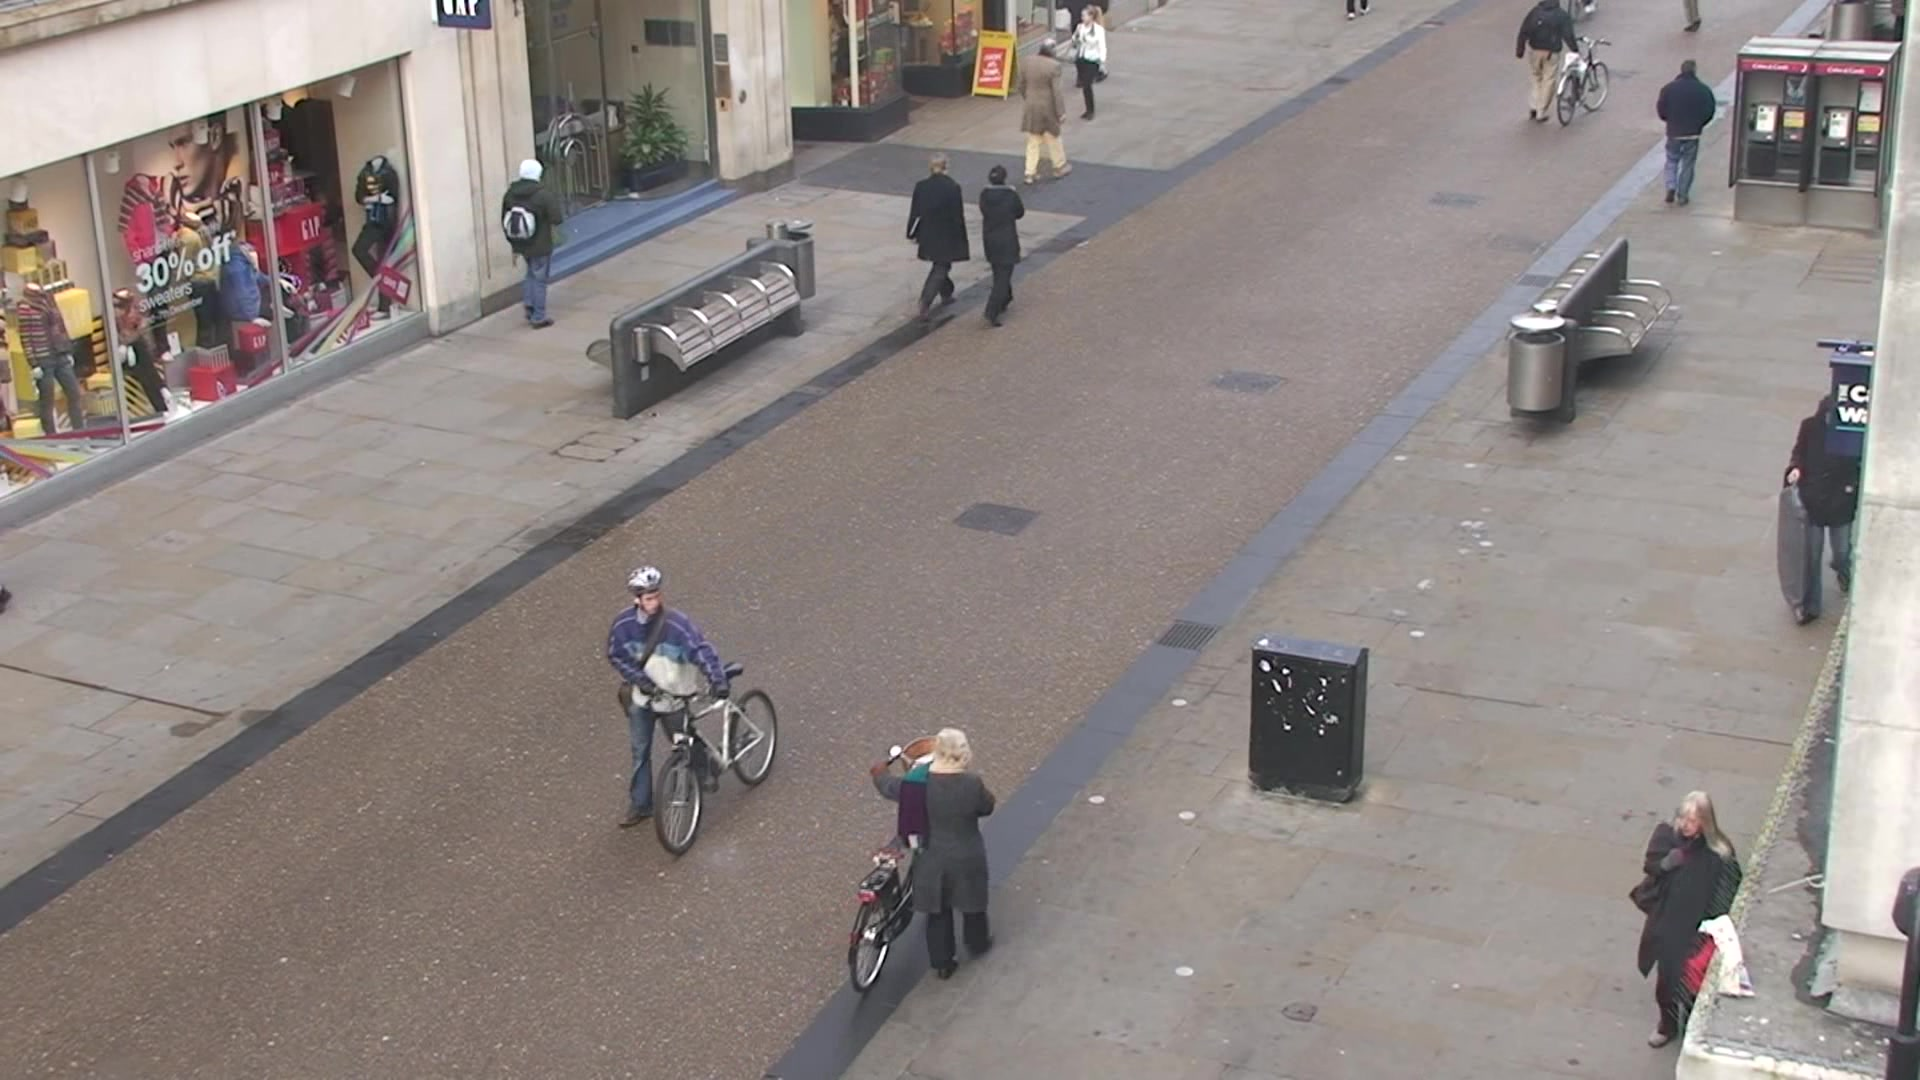person: (607, 566, 733, 829), (868, 727, 997, 983), (1637, 789, 1739, 1051), (905, 152, 969, 322), (504, 158, 561, 329), (1656, 58, 1716, 210), (1014, 36, 1073, 180), (979, 165, 1025, 327), (1068, 1, 1109, 126)
